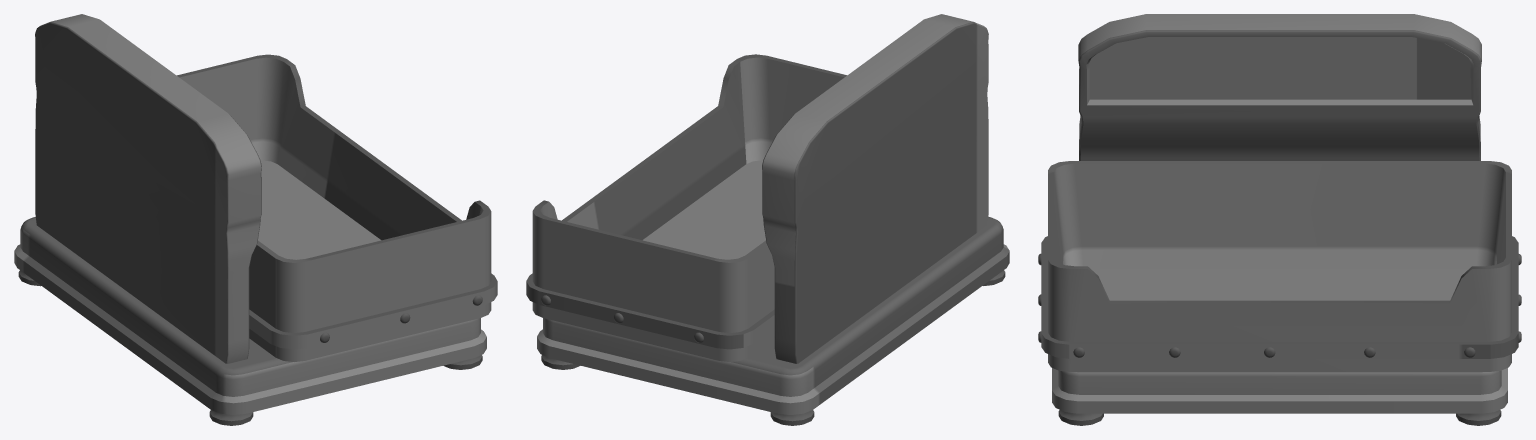
File: SM_balance.fbx
3 renders of one model, left to right at view 1: azimuth 30°, elevation 25°; view 2: azimuth 150°, elevation 25°; view 3: azimuth 270°, elevation 25°, orthographic. The views are drawn at different scales.
Parts seen in each view (by area): view 1: SM_balance; view 2: SM_balance; view 3: SM_balance.
Part boxes in pixels (x1=…): SM_balance: x1=14, y1=14, x2=497, y2=425; SM_balance: x1=526, y1=14, x2=1009, y2=425; SM_balance: x1=1038, y1=14, x2=1521, y2=425.
Size of the model in its own units: 1.58 by 1.48 by 2.26.
1 material, 1 textured.
